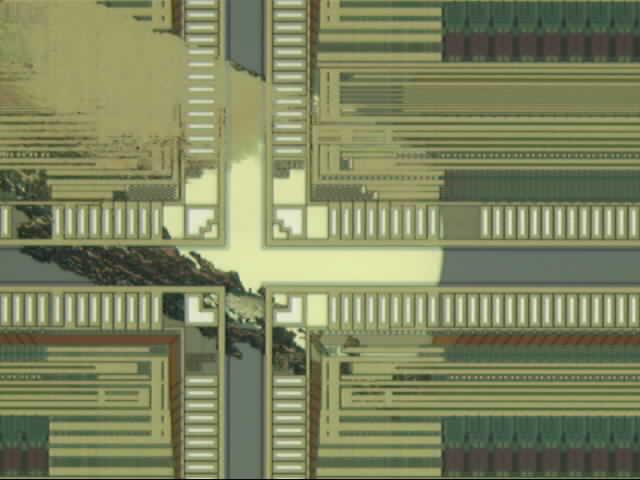BLOCK ETCH: (1, 1, 453, 419)
